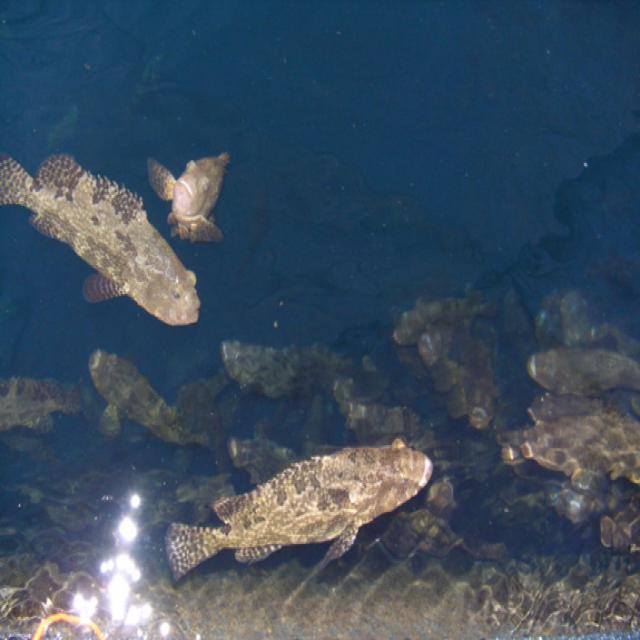grouper: (136, 432, 434, 570), (0, 144, 204, 333), (87, 347, 224, 447), (140, 131, 238, 252), (520, 411, 640, 489), (527, 347, 640, 398)
